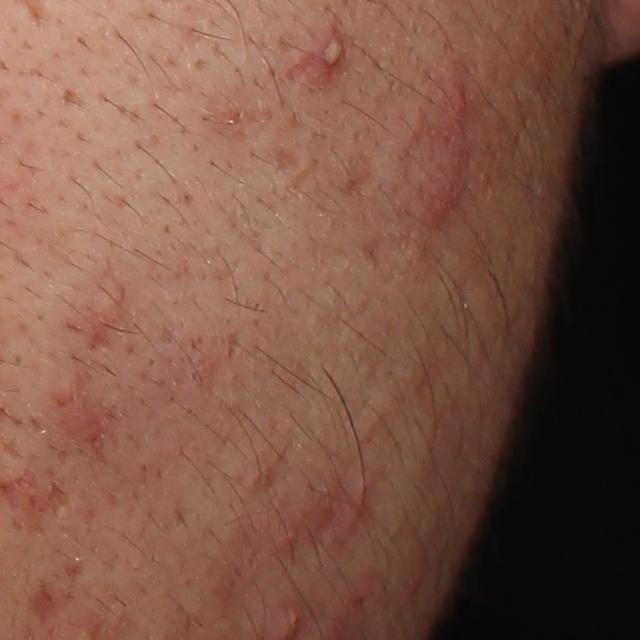atrophic_scar: (357, 223, 418, 277), (280, 50, 335, 97), (335, 151, 380, 203), (25, 570, 57, 626), (268, 139, 303, 175)
papule: (407, 149, 468, 230), (91, 278, 128, 321), (341, 493, 370, 545), (451, 82, 471, 118)
pustule: (312, 28, 346, 72)
